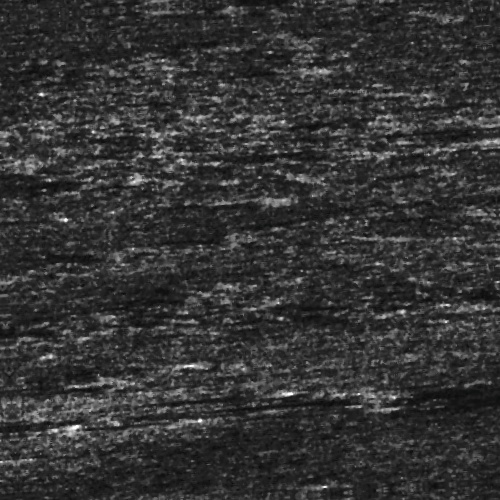object: (334, 395, 407, 408), (290, 68, 353, 77), (138, 409, 191, 416), (241, 391, 294, 396), (471, 138, 500, 147), (280, 498, 363, 500), (339, 414, 380, 417)
shadow: (249, 395, 370, 408), (374, 138, 500, 147), (143, 391, 267, 396), (265, 68, 321, 77), (100, 409, 164, 416), (139, 498, 321, 500), (238, 414, 359, 417)
